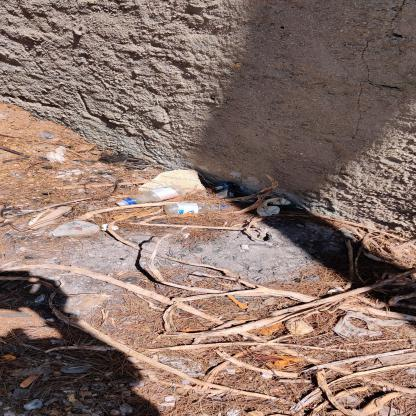karton: (213, 182, 239, 199)
kopuk: (139, 171, 207, 194)
plastik: (117, 186, 187, 208), (164, 204, 230, 216)
